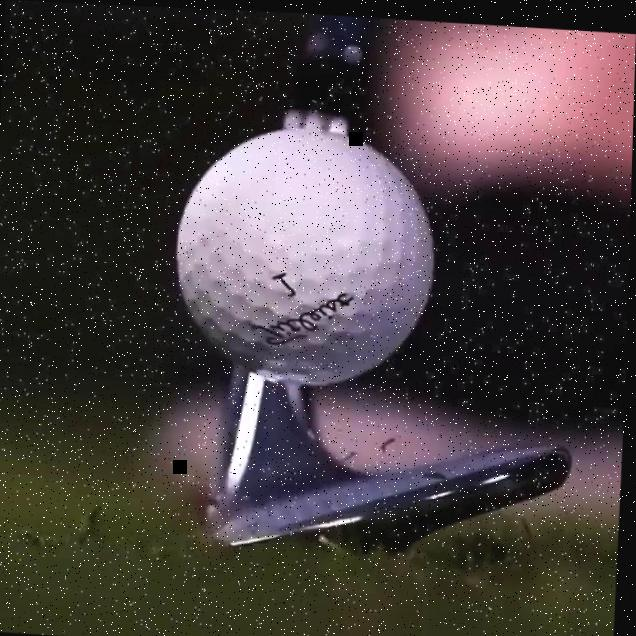ClubHead: (189, 400, 573, 586)
GolfBall: (185, 110, 440, 371)
